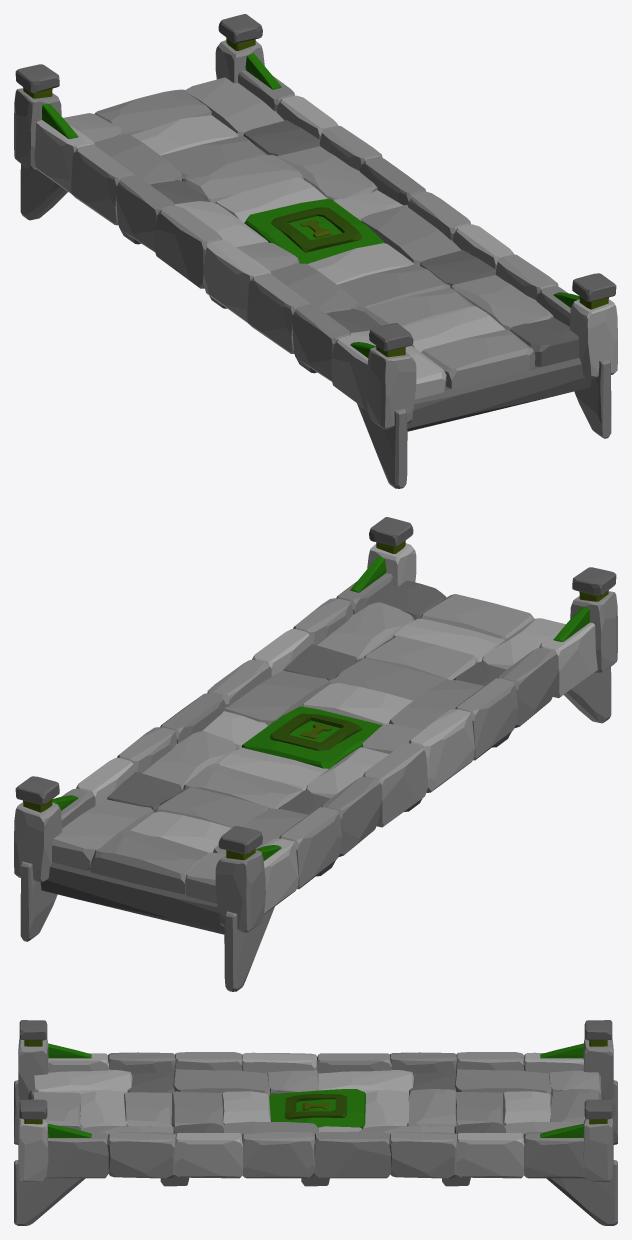
The model's file is Bridge02.fbx.
3 renders of one model, top to bottom at view 1: azimuth 30°, elevation 25°; view 2: azimuth 150°, elevation 25°; view 3: azimuth 270°, elevation 25°, orthographic. The views are drawn at different scales.
Parts seen in each view (by area): view 1: LOD0; view 2: LOD0; view 3: LOD0.
Part boxes in pixels (left/top/right/bottom): LOD0: left=14, top=14, right=617, bottom=488; LOD0: left=14, top=517, right=617, bottom=991; LOD0: left=14, top=1020, right=617, bottom=1225.
Size of what is drawn, in the model's own units: 871 by 2427 by 529.
